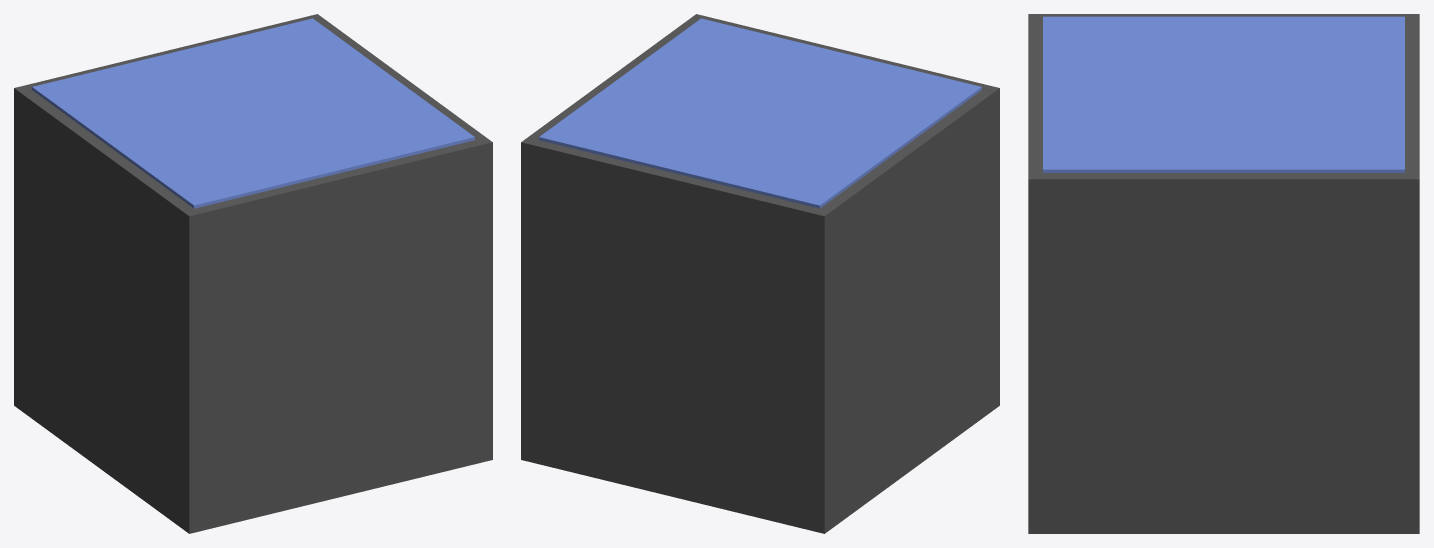
Rendered from Launchpad.fbx.
3 views of the same model, side by side, from view 1: azimuth 30°, elevation 25°; view 2: azimuth 150°, elevation 25°; view 3: azimuth 270°, elevation 25° (orthographic). The views are drawn at different scales.
Visible parts, largest first — view 1: pCube1, pCube2; view 2: pCube1, pCube2; view 3: pCube1, pCube2.
Boxes of the visible parts, x1,y1,x2,y2 form: pCube1: [14, 14, 492, 533]; pCube2: [32, 18, 474, 208]; pCube1: [521, 14, 999, 533]; pCube2: [539, 18, 981, 208]; pCube1: [1028, 14, 1419, 533]; pCube2: [1043, 16, 1404, 172].
Size of the model in its own units: 10 by 10.1 by 10.
